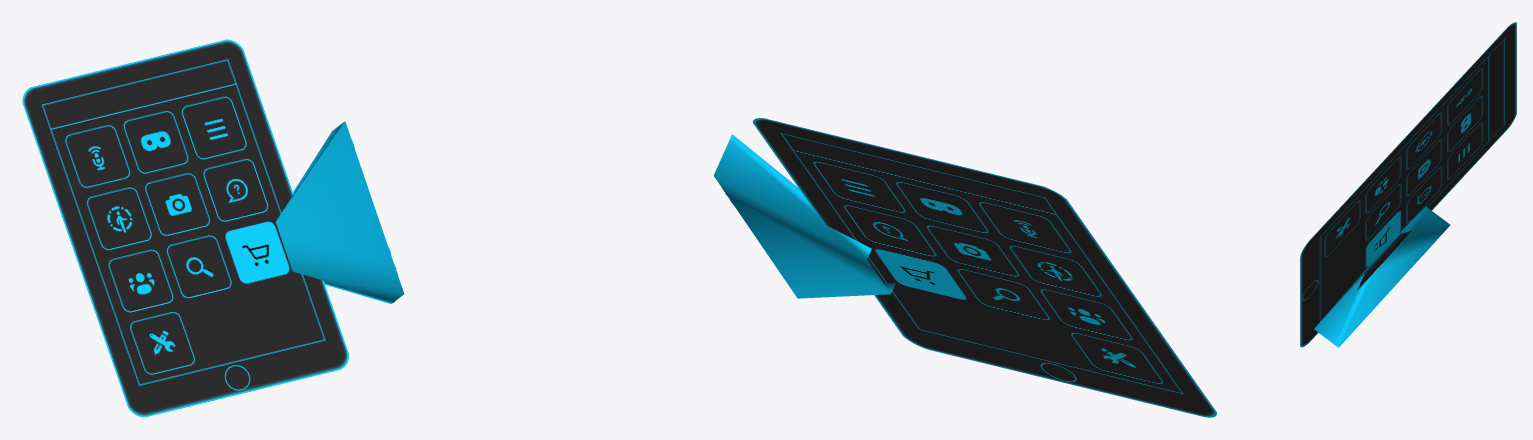
Rendered from FTUE-Tablet-Market.fbx.
3 renders of one model, left to right at view 1: azimuth 30°, elevation 25°; view 2: azimuth 150°, elevation 25°; view 3: azimuth 270°, elevation 25°, orthographic. The views are drawn at different scales.
Visible parts, largest first — view 1: Cube.003, Cube.000; view 2: Cube.003, Cube.000; view 3: Cube.003, Cube.000.
Boxes of the visible parts, bbox=[...] form: Cube.003: bbox=[22, 39, 348, 417]; Cube.000: bbox=[275, 121, 404, 303]; Cube.003: bbox=[752, 118, 1216, 417]; Cube.000: bbox=[713, 134, 895, 298]; Cube.003: bbox=[1300, 22, 1516, 347]; Cube.000: bbox=[1314, 206, 1450, 347].
Bounding box in the file's own units: 46.29 × 31.32 × 29.74.
Materials: 1 (1 with a texture image).
